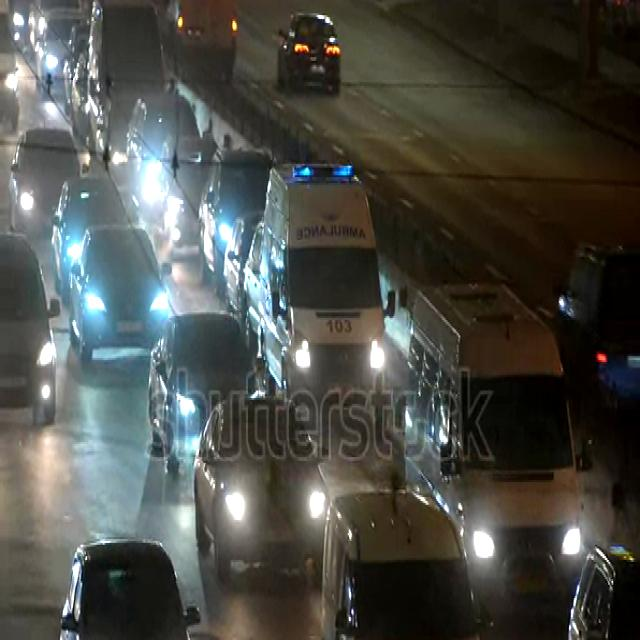ambulance: (260, 164, 398, 425)
